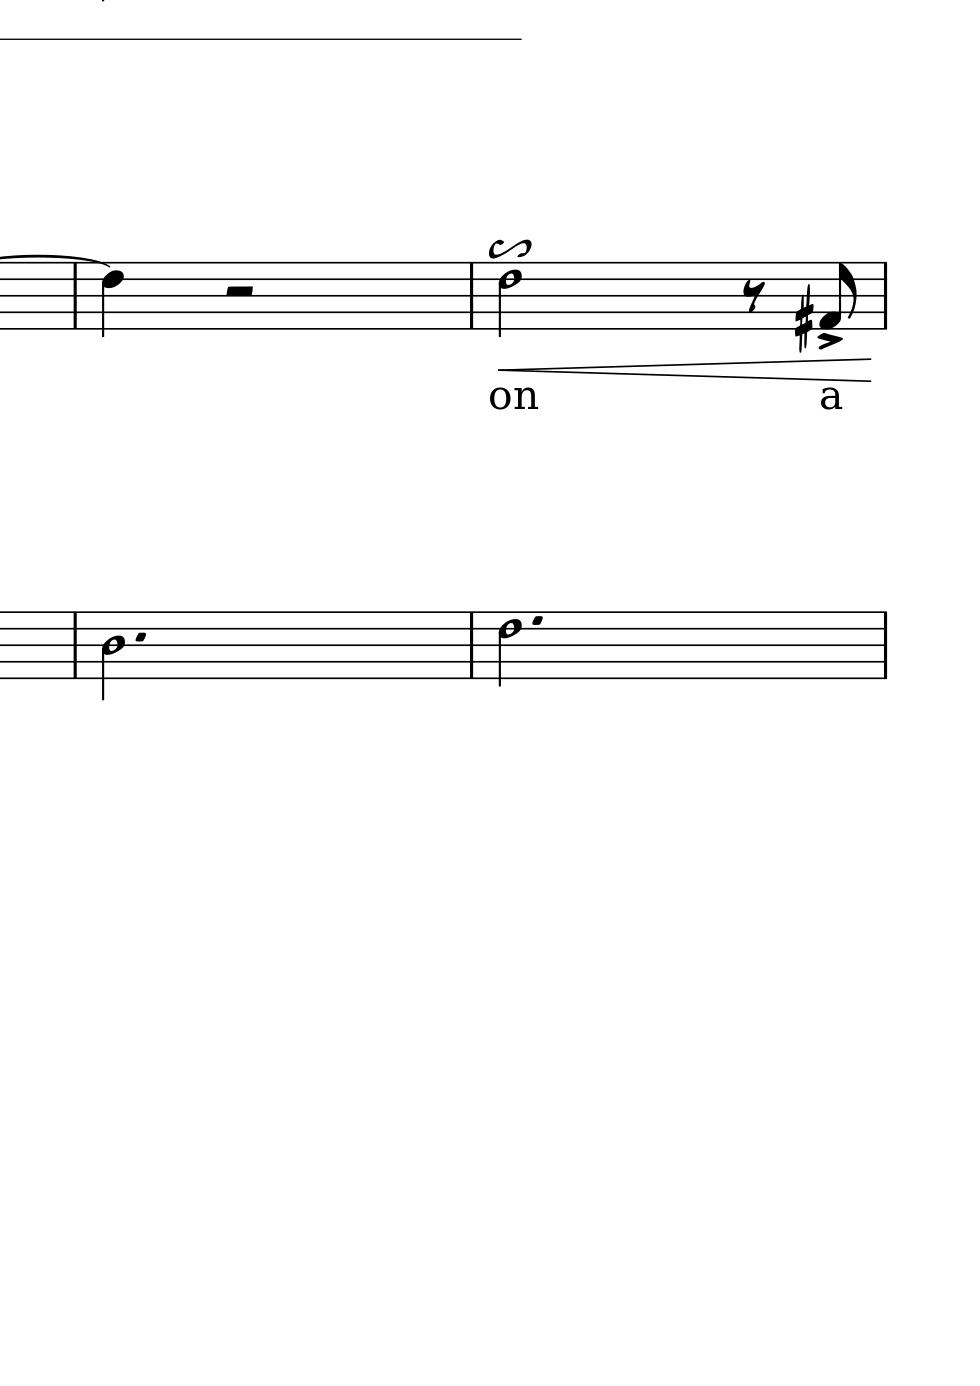2_4: (99, 609, 124, 702)
2_6: (495, 609, 525, 689), (497, 261, 524, 340)
4_6: (99, 260, 125, 339)
8_8: (818, 263, 858, 331)
Accent_above: (813, 331, 845, 351)
Crescendo_hairpin: (497, 357, 873, 383)
Inverted_turn: (487, 236, 533, 260)
Rests2: (221, 282, 257, 304)
Rests8: (741, 279, 767, 312)
Sharp: (793, 286, 813, 353)
Single_barline: (874, 262, 895, 330), (463, 262, 482, 329), (463, 612, 482, 679), (876, 611, 893, 679), (67, 264, 84, 329), (67, 612, 82, 679)
dot: (133, 629, 148, 645), (532, 612, 546, 628)
